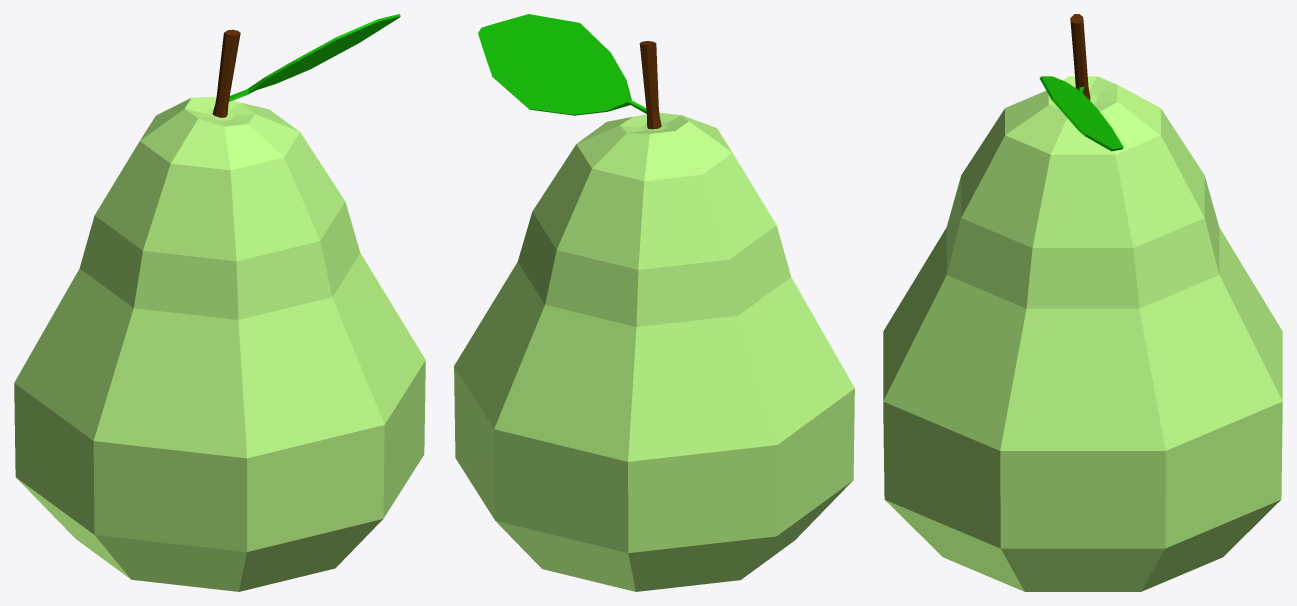
Rendered from pear01.gltf.
3 views of the same model, side by side, from view 1: azimuth 30°, elevation 25°; view 2: azimuth 150°, elevation 25°; view 3: azimuth 270°, elevation 25° (orthographic). The views are drawn at different scales.
Visible parts, largest first — view 1: Cylinder; view 2: Cylinder; view 3: Cylinder.
Part boxes in pixels (box(x1,y1,x2,y2)): Cylinder: box(14, 14, 425, 591); Cylinder: box(454, 14, 854, 591); Cylinder: box(883, 14, 1282, 591).
Size of the model in its own units: 0.0673 by 0.0959 by 0.0646.
Materials: 1 (1 with a texture image).
